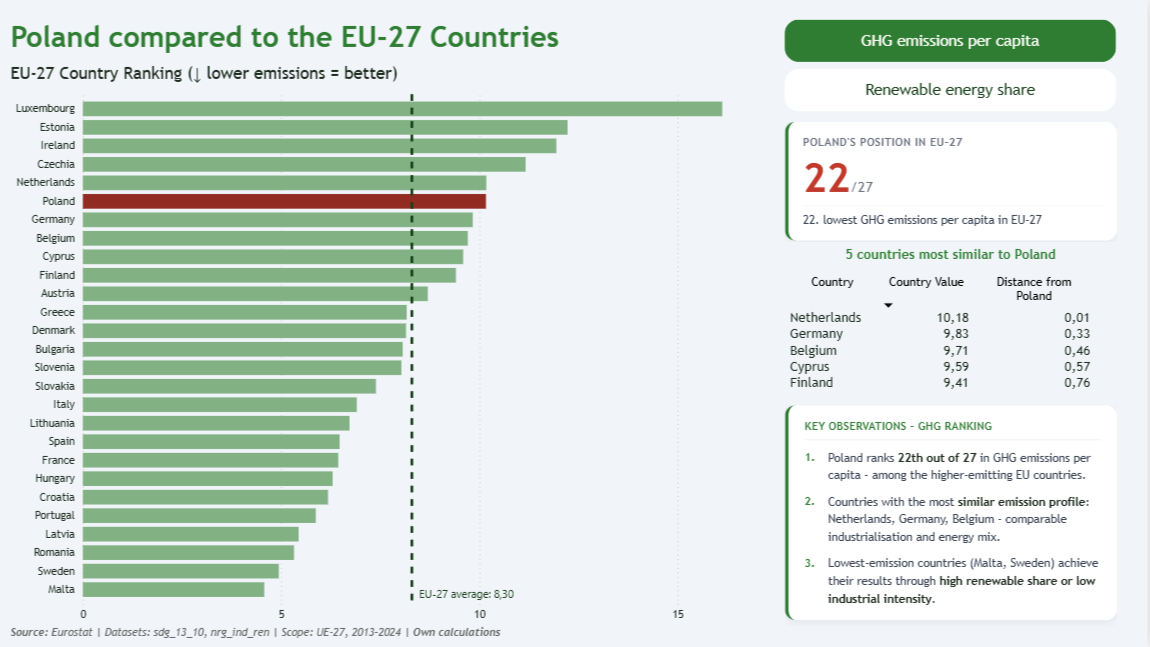

This screenshot's page, from the dashboard's own definition file:
{"tool":"powerbi","page":{"name":"Country Ranking","canvas":[1280,720],"ordinal":1},"visuals":[{"type":"clusteredBarChart","fields":{"Category":["dim_country.country_name"],"Y":["Avg(fact_indicator_value.value)"]},"box":[11.7,70,890,628.3],"z":0},{"type":"advancedSlicerVisual","title":"Wybierz wskaźnik","fields":{"Values":["fact_indicator_value.indicator_label_clean"]},"box":[871.7,16.7,378.3,113.3],"z":1000},{"type":"tableEx","fields":{"Values":["dim_country.country_name","fact_indicator_value.Wartość","fact_indicator_value.Dystans od Polski"]},"box":[871.7,299.4,378.6,145.6],"z":1000,"group":"g1"},{"type":"textbox","box":[11.7,16.7,890,53.3],"z":2000},{"type":"textbox","box":[871.7,273.3,378.6,26.1],"z":2000,"group":"g1"},{"type":"htmlContent443BE3AD55E043BF878BED274D3A6855","fields":{"content":["fact_indicator_value.Rank HTML"]},"box":[871.7,130,378.3,143.3],"z":3000},{"type":"htmlContent443BE3AD55E043BF878BED274D3A6855","fields":{"content":["fact_indicator_value.Key Insights Ranking HTML"]},"box":[871.7,445,378.3,255],"z":4000},{"type":"group","id":"g1","title":"Grupa 1","box":[871.7,273.3,378.3,171.7],"z":5000},{"type":"textbox","box":[11.7,686.7,791.7,33.3],"z":6000}]}

Visuals, with their boxes in screenshot pixels (x1, y1, x2, y2), scaled from the page's 1280x720 canvas onto the 1150x647 screenshot:
clusteredBarChart - dim_country.country_name x Avg(fact_indicator_value.value): locate(11, 63, 810, 628)
"Wybierz wskaźnik" advancedSlicerVisual: locate(783, 15, 1123, 117)
tableEx - dim_country.country_name x fact_indicator_value.Wartość: locate(783, 269, 1123, 400)
textbox: locate(11, 15, 810, 63)
textbox: locate(783, 246, 1123, 269)
htmlContent443BE3AD55E043BF878BED274D3A6855 - fact_indicator_value.Rank HTML: locate(783, 117, 1123, 246)
htmlContent443BE3AD55E043BF878BED274D3A6855 - fact_indicator_value.Key Insights Ranking HTML: locate(783, 400, 1123, 629)
"Grupa 1" group: locate(783, 246, 1123, 400)
textbox: locate(11, 617, 722, 646)
